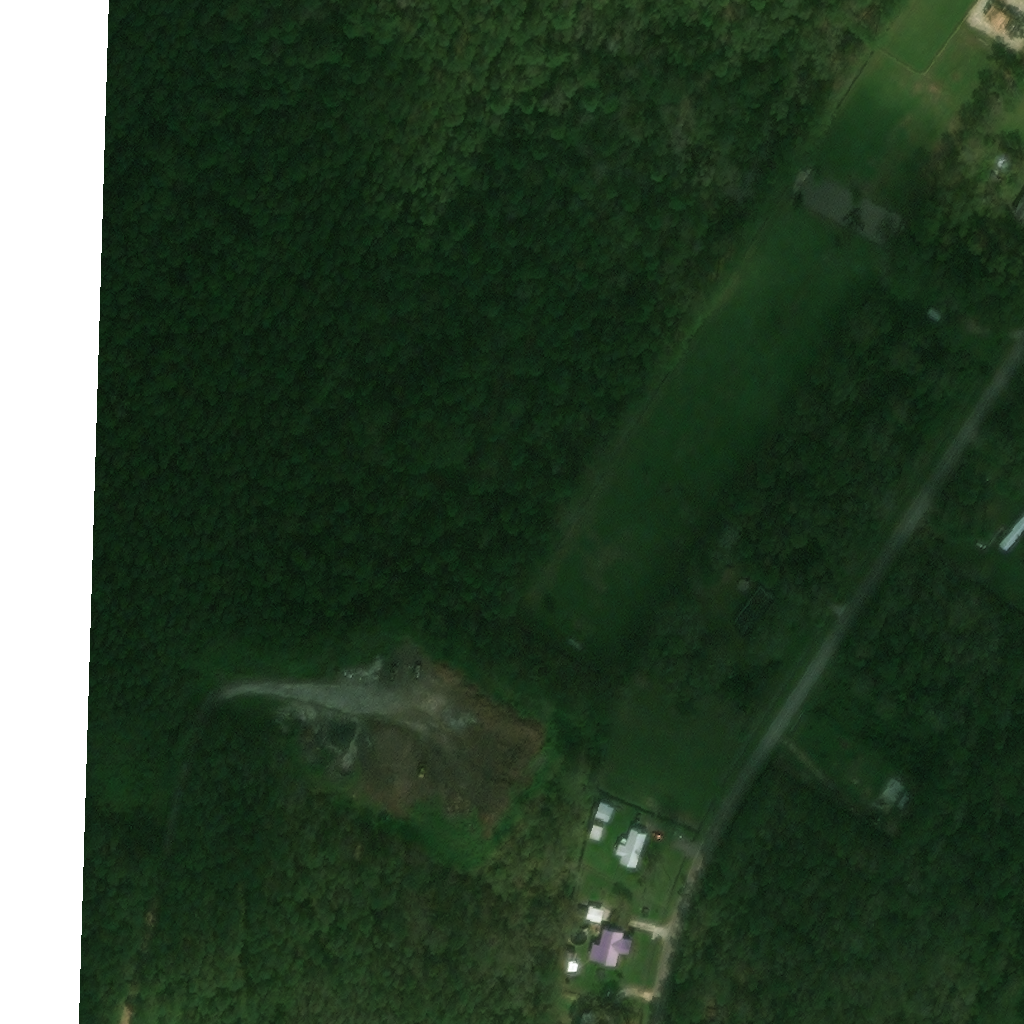no_damage: (734, 584, 779, 640), (588, 929, 631, 969), (873, 777, 910, 822), (613, 829, 647, 870), (554, 950, 581, 979), (999, 519, 1022, 553), (594, 803, 617, 824), (588, 823, 608, 844), (586, 907, 604, 925), (927, 310, 943, 324), (643, 913, 653, 921), (992, 176, 1000, 185), (674, 834, 681, 840)
unclassified: (938, 293, 986, 328), (708, 562, 739, 587), (834, 760, 850, 778)
